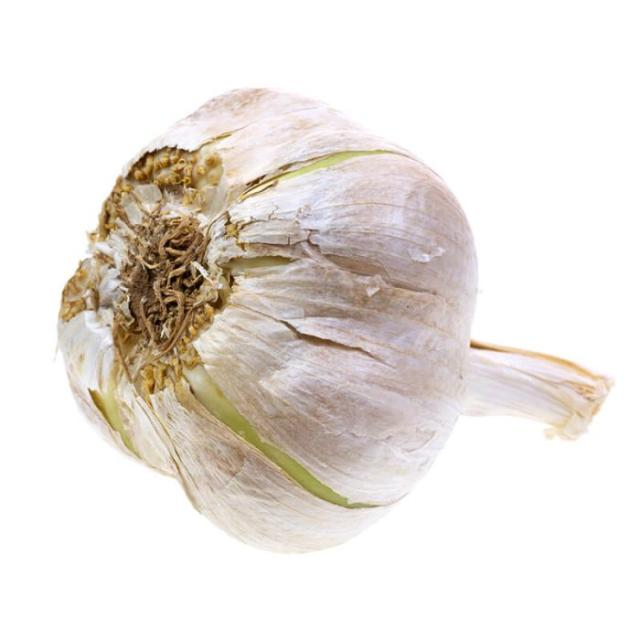garlic: (58, 75, 477, 559)
